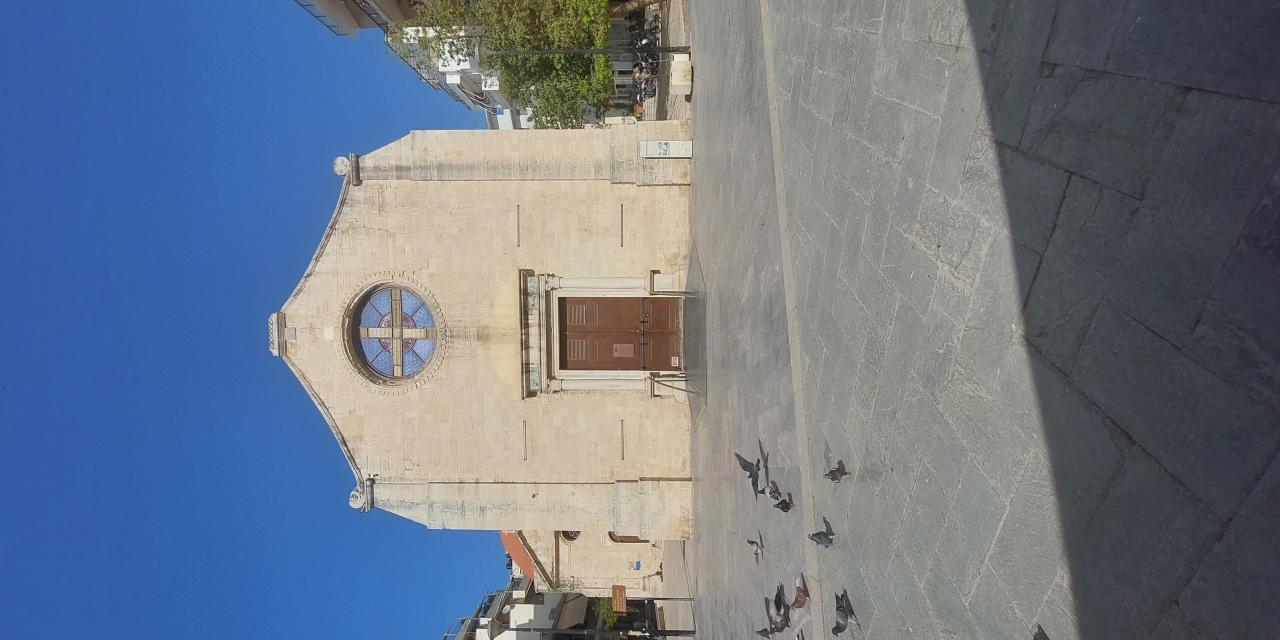Agia Aikaterini: (265, 107, 696, 557)
